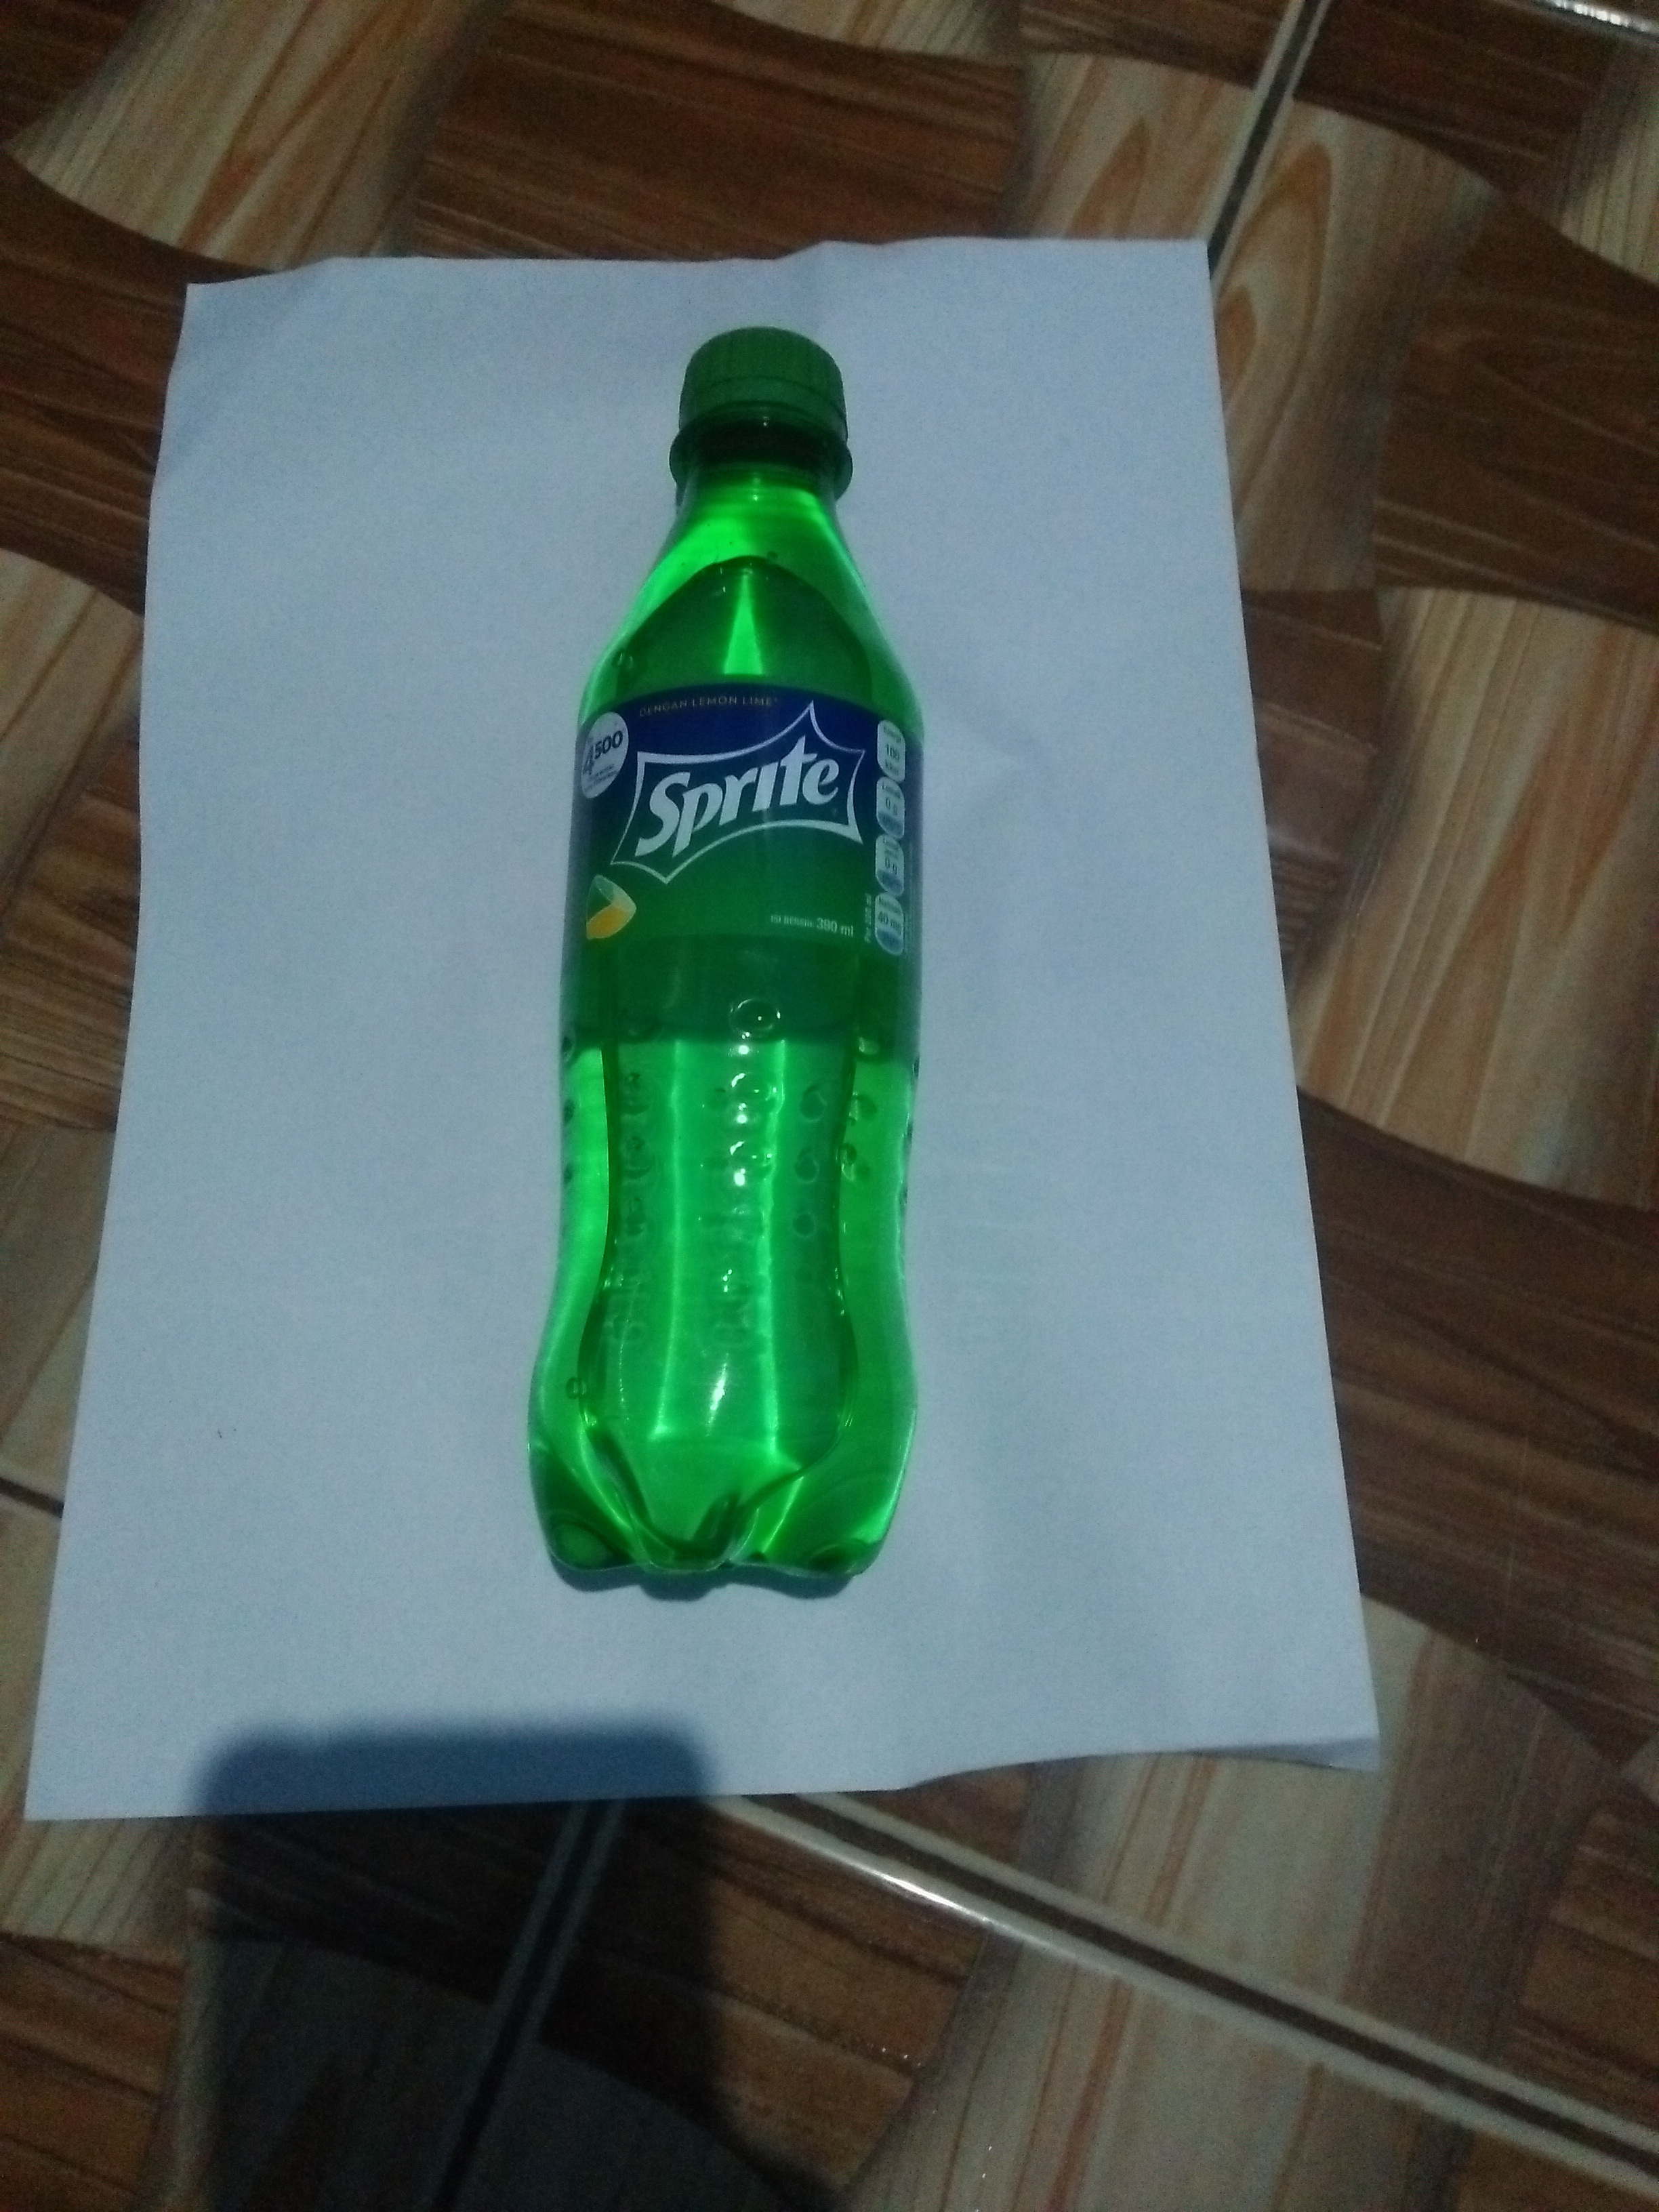Sprite: (521, 319, 967, 1620)
